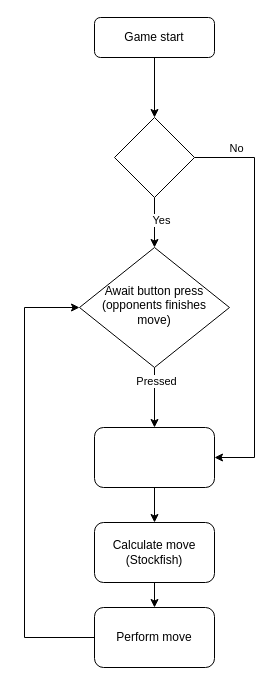
This 280x685 diagram has some shape labels left out. Here are the shapes that lost their labels. From the top down, the centre of each, then its label:
At (154,157): "Is black".
At (154,457): "Gather camera input".
